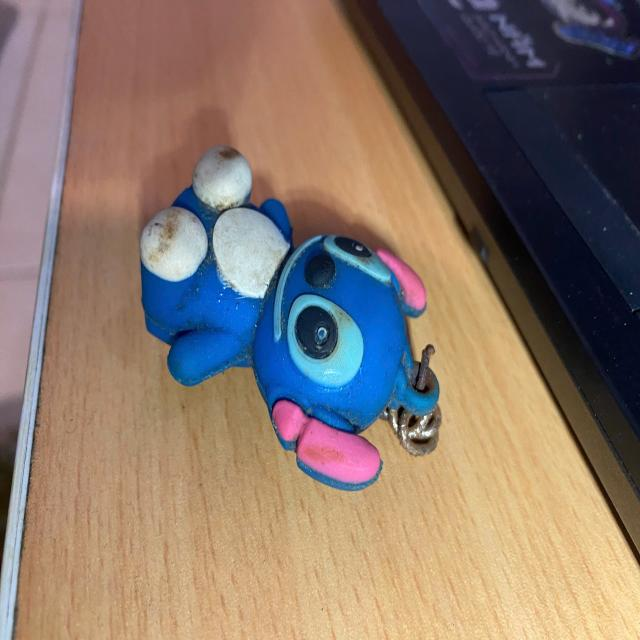stick: (139, 144, 442, 492)
